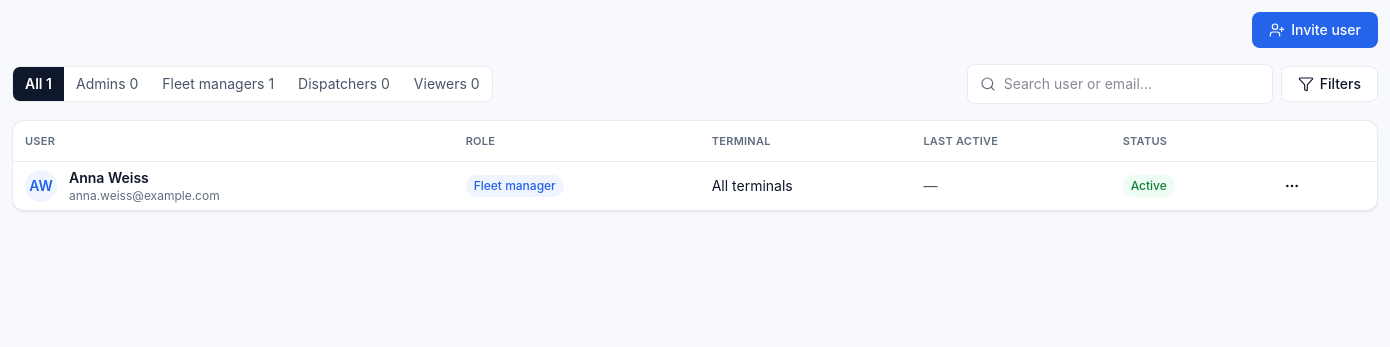
UsersPage — W-18 › shows an error toast when disabling a user fails
Expected: the text "Anna Weiss" is shown, [69,168,149,186]
Click the button named "Row actions" at (1292, 186), box [1276,170,1308,202]
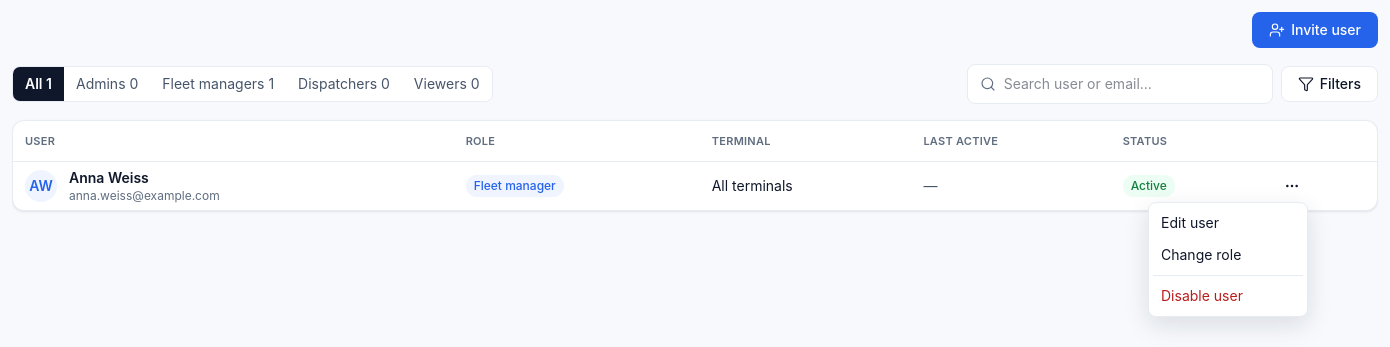
Click the menu item "Disable user" at (1202, 296), box [1161,287,1243,304]
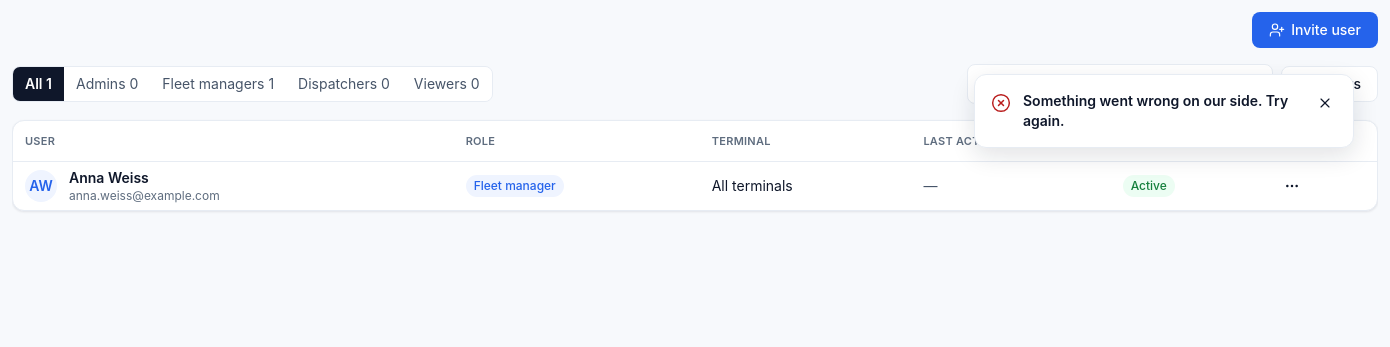
Expected: the text "Something went wrong on our side. Try again." is shown, [1023,91,1301,131]
